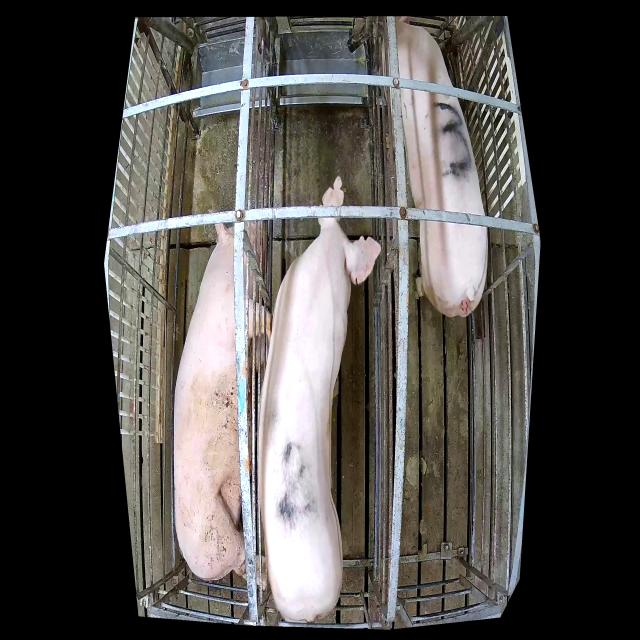pig: (259, 175, 381, 622), (174, 221, 270, 592), (382, 22, 488, 318)
